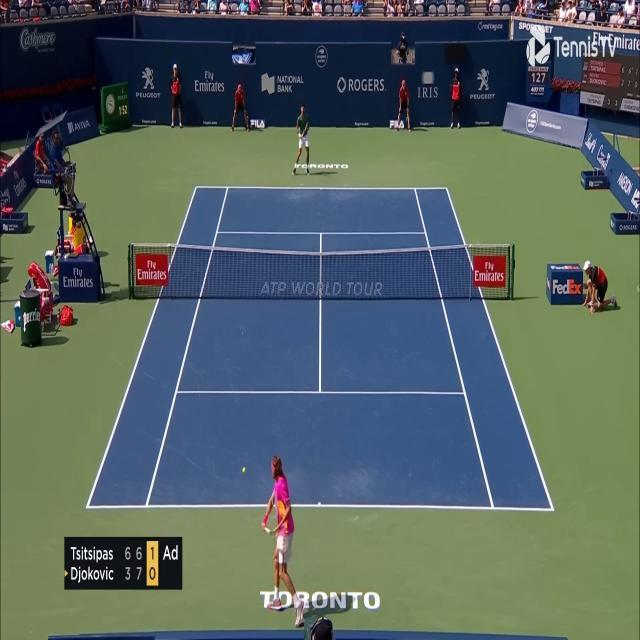court: (86, 186, 555, 513)
net: (127, 242, 516, 302)
player: (259, 453, 307, 628)
